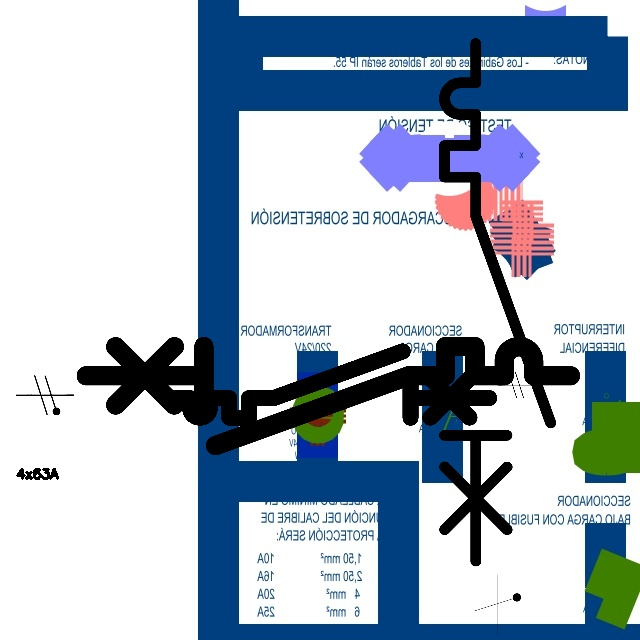interruptor_termomagnetico: (431, 30, 564, 575), (73, 334, 582, 458), (157, 343, 497, 426)
